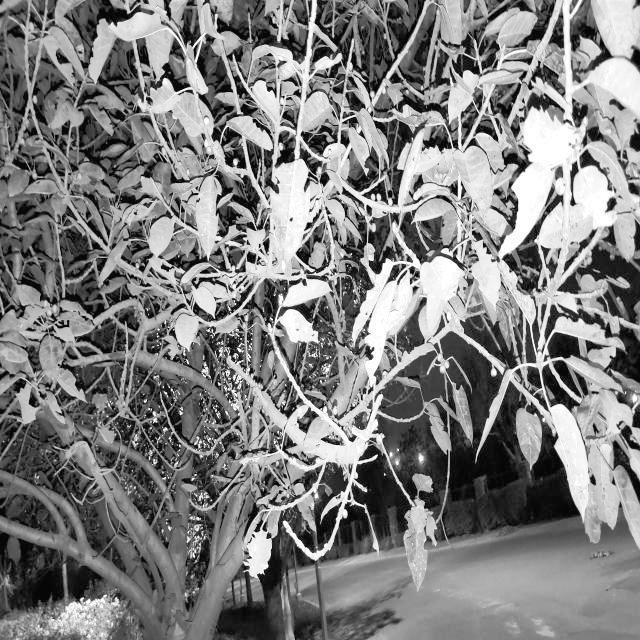Tree: (0, 0, 369, 640)
